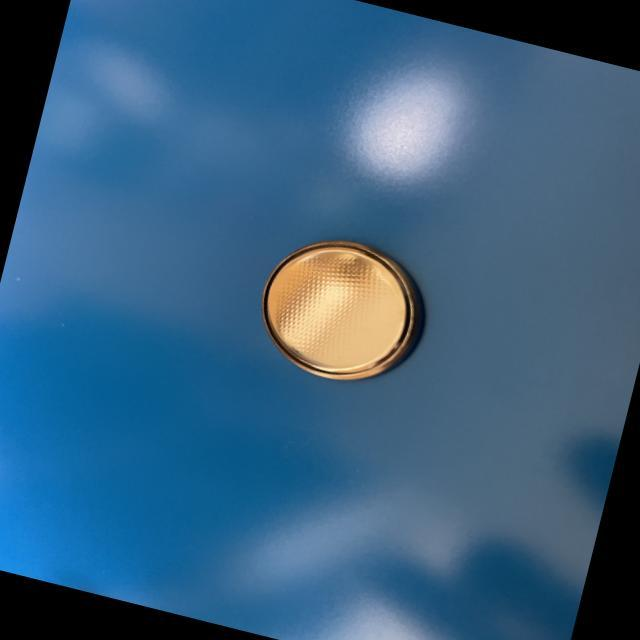COIN: (244, 220, 441, 398)
